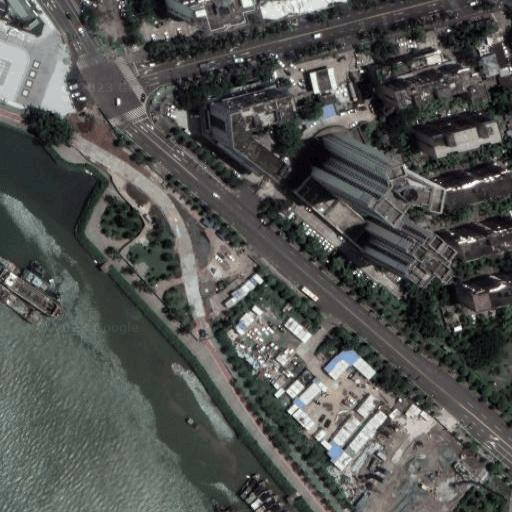building: (211, 83, 279, 173), (306, 134, 381, 200), (292, 175, 364, 239), (380, 67, 469, 105), (350, 200, 405, 255), (430, 154, 503, 194), (414, 106, 486, 142), (442, 208, 512, 245), (377, 49, 449, 81), (342, 410, 388, 458), (454, 263, 512, 297), (330, 412, 364, 446), (430, 292, 461, 329), (302, 106, 337, 129), (309, 70, 337, 96), (323, 354, 349, 380), (352, 356, 376, 380), (298, 382, 321, 406), (497, 43, 512, 79), (330, 448, 353, 471), (338, 344, 360, 366), (355, 396, 377, 418), (484, 55, 504, 78), (455, 82, 475, 104), (324, 441, 341, 458), (320, 95, 338, 110), (489, 32, 508, 46), (292, 396, 308, 411), (312, 378, 328, 393), (354, 495, 368, 511), (203, 217, 217, 230), (506, 109, 512, 133), (217, 230, 229, 241), (505, 76, 512, 92), (507, 130, 512, 138)
